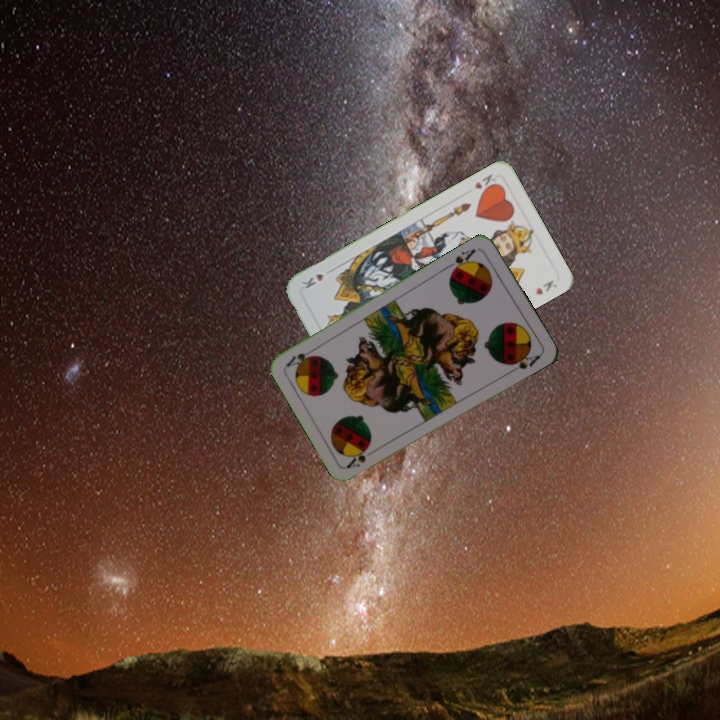HK: (470, 170, 500, 195)
SA: (342, 442, 380, 471), (444, 245, 479, 276)
